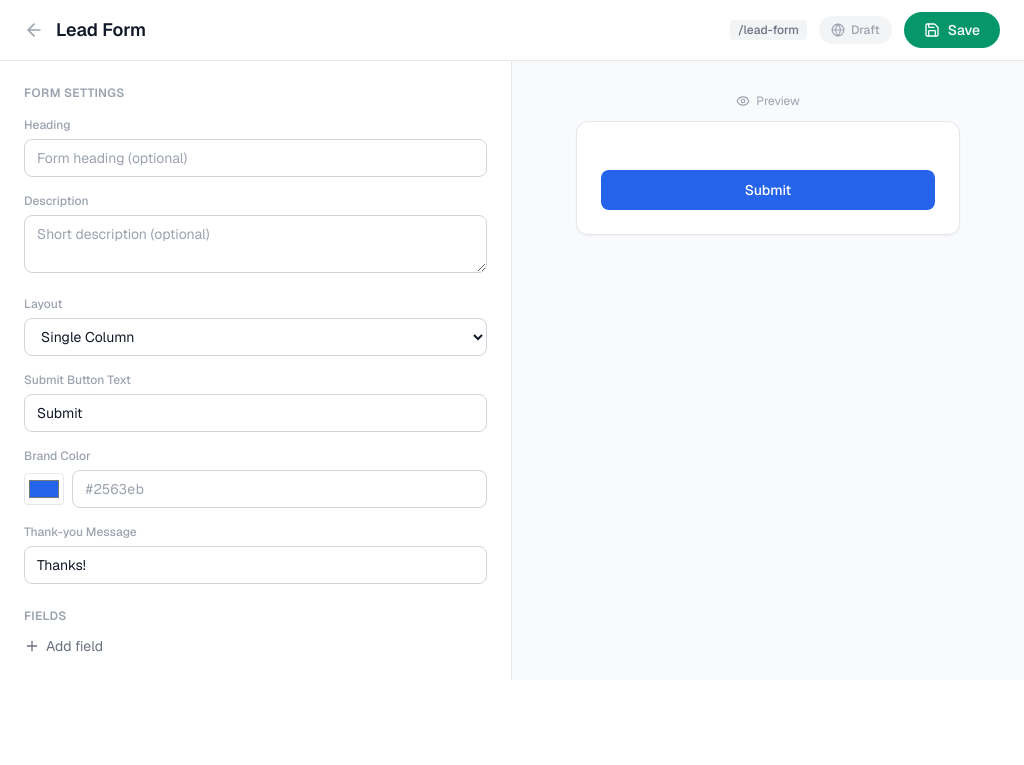
FormBuilder › shows a readable validation error instead of saving a blank field
This screenshot has width=1024, height=765.
Click the button "Add field": (64, 646) [24,636,103,656]
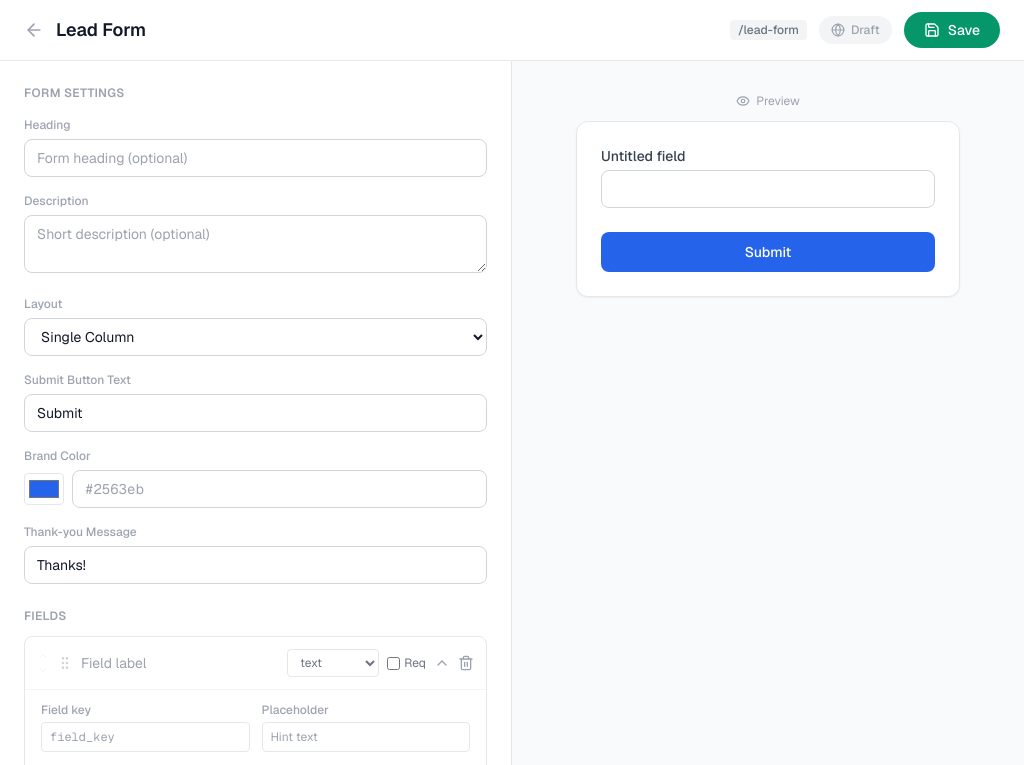
Click the button "Save": (952, 30) [904,12,1000,48]
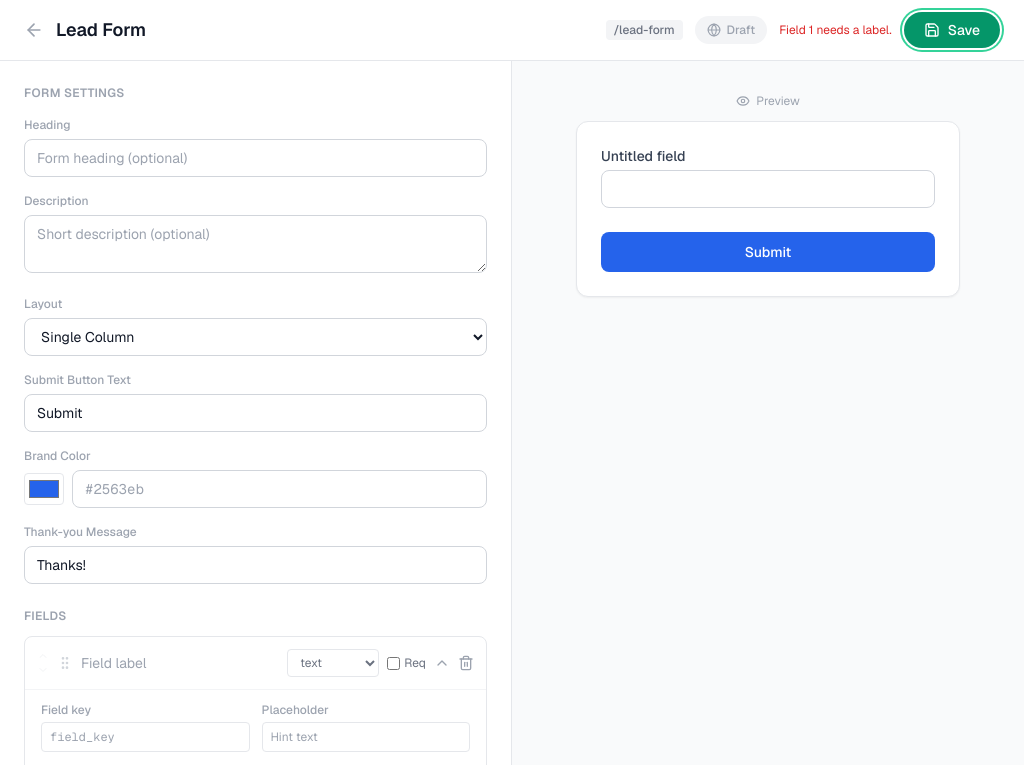
expect the text "Field 1 needs a label." is shown: met, box [779,22,892,38]
